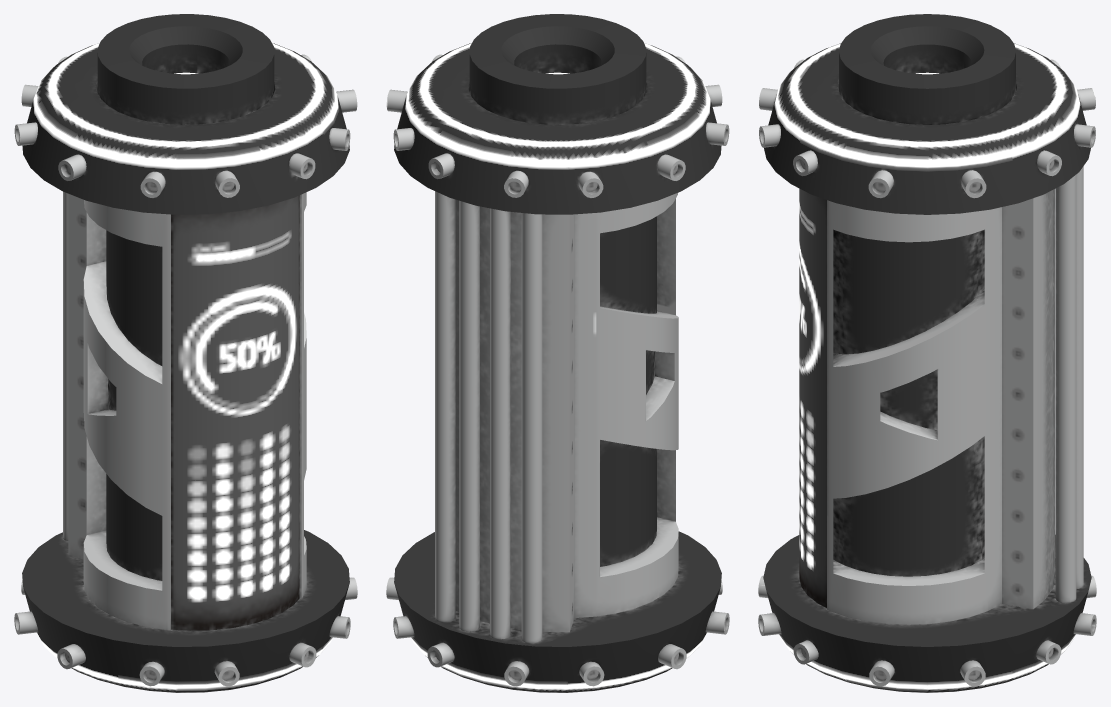
3 views of the same model, side by side, from view 1: azimuth 30°, elevation 25°; view 2: azimuth 150°, elevation 25°; view 3: azimuth 270°, elevation 25° (orthographic).
Parts seen in each view (by area): view 1: SM_Capsule_2_LOD0; view 2: SM_Capsule_2_LOD0; view 3: SM_Capsule_2_LOD0.
Part boxes in pixels (<box>): SM_Capsule_2_LOD0: <box>14,14,357,692</box>; SM_Capsule_2_LOD0: <box>386,14,729,692</box>; SM_Capsule_2_LOD0: <box>758,14,1096,692</box>.
Size of the model in its own units: 304 by 579 by 303.
1 material, 1 textured.
